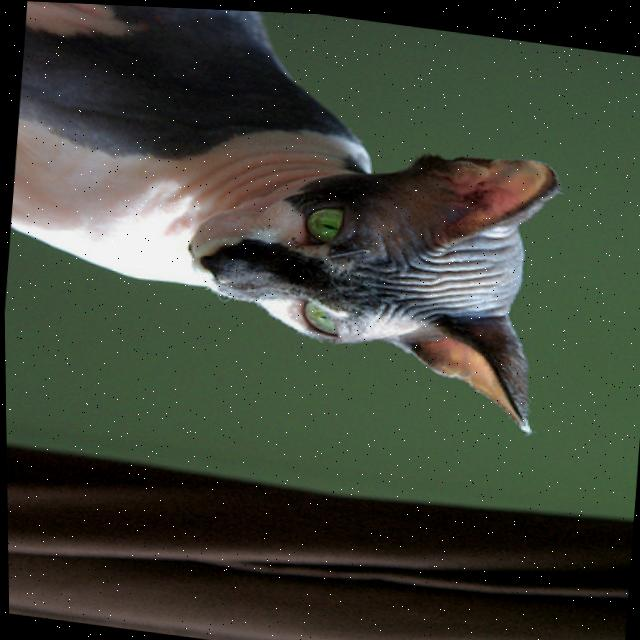Sphynx: (0, 0, 579, 435)
